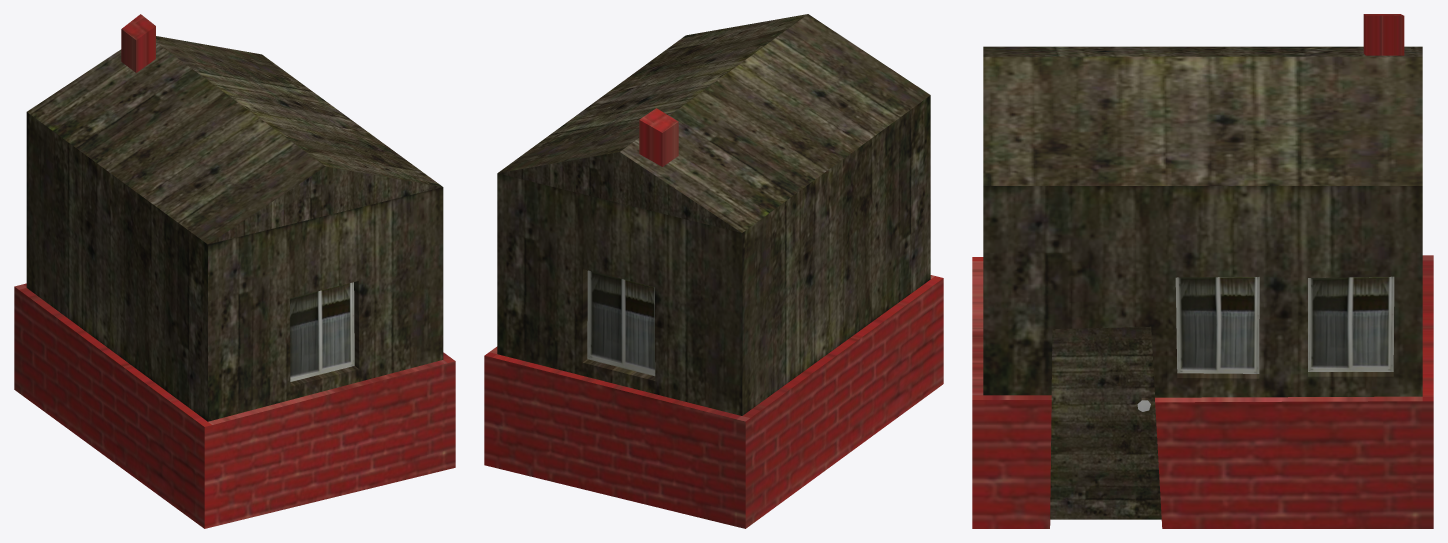
The model's file is collagetest.obj.
The picture shows the model from 3 angles, left to right: view 1: azimuth 30°, elevation 25°; view 2: azimuth 150°, elevation 25°; view 3: azimuth 270°, elevation 25°; orthographic projection. The views are drawn at different scales.
Parts seen in each view (by area): view 1: Cube; view 2: Cube; view 3: Cube.
Part boxes in pixels (x1,y1,x2,y2): Cube: (14,14,455,528); Cube: (484,14,943,528); Cube: (972,14,1433,528).
Bounding box in the file's own units: 3.2 × 4.34 × 4.2.
1 material, 1 textured.
